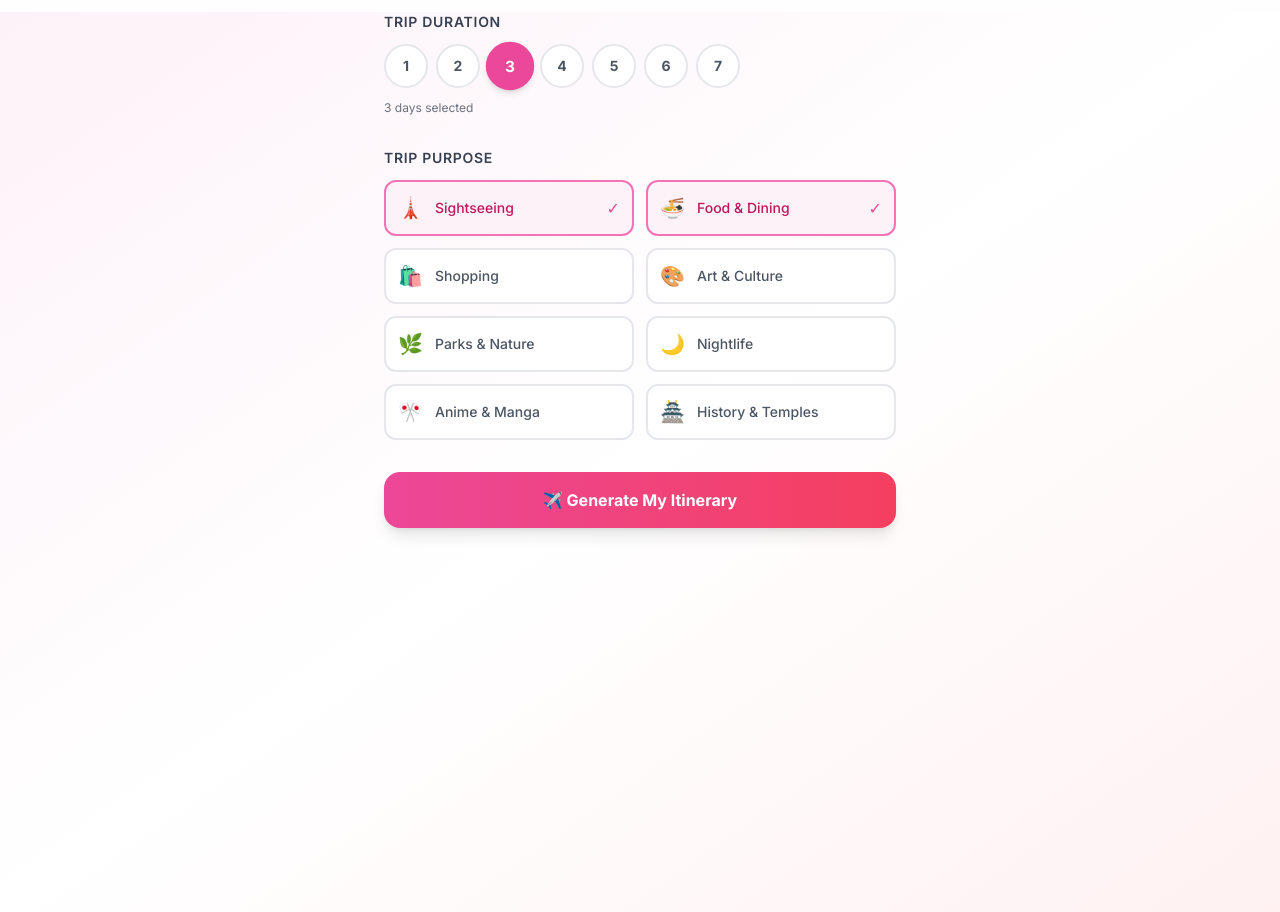
Test: InputForm › shows error when no purpose is selected and form is submitted
# Uncheck all defaults
Click the checkbox labelled "Sightseeing" at (509, 208), box 384,180 -> 634,236
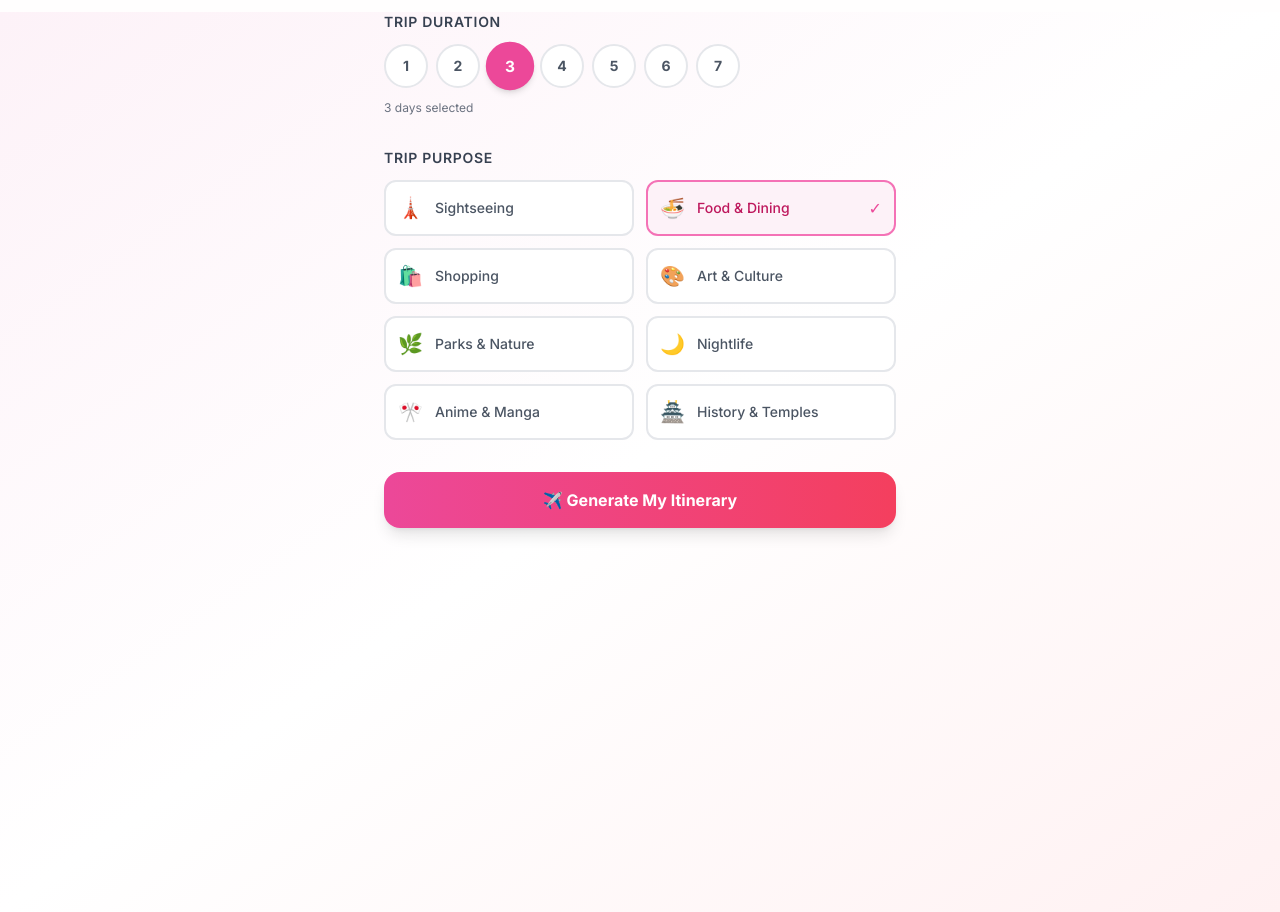
Click the checkbox labelled "Food & Dining" at (771, 208), box 646,180 -> 896,236
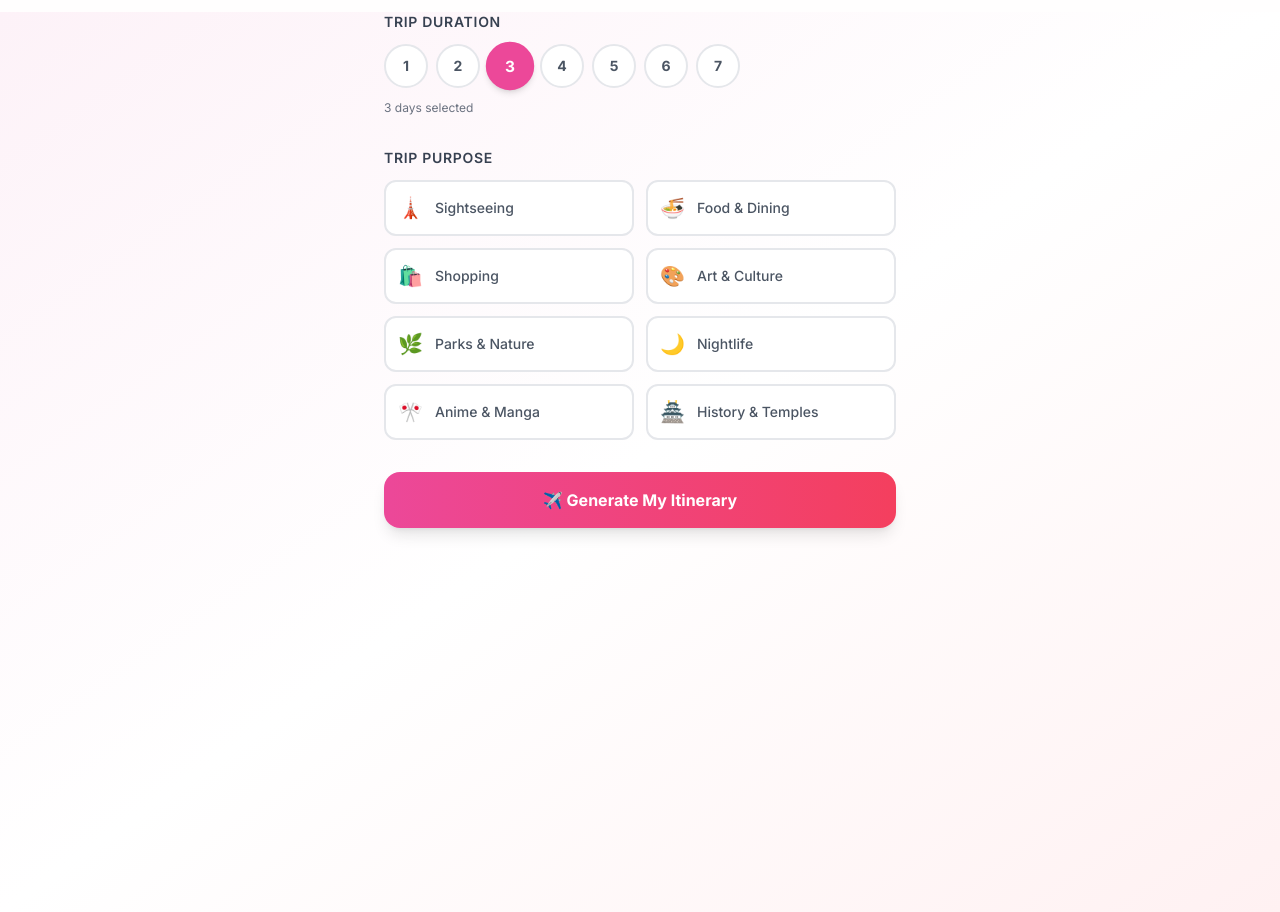
Click the button "✈️ Generate My Itinerary" at (640, 500), box 384,472 -> 896,528
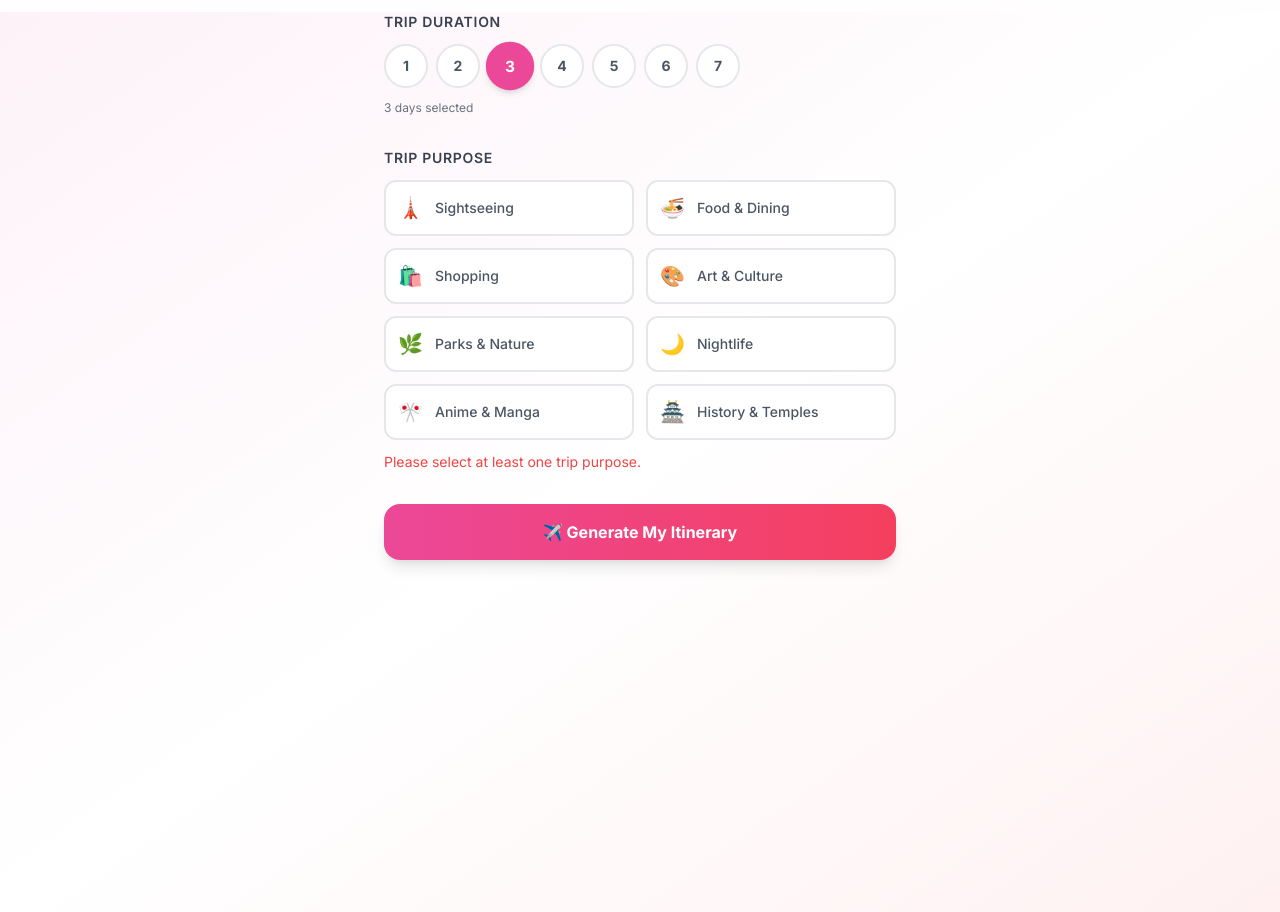
Now the message reads "Please select at least one trip purpose.", box 384,453 -> 641,470
